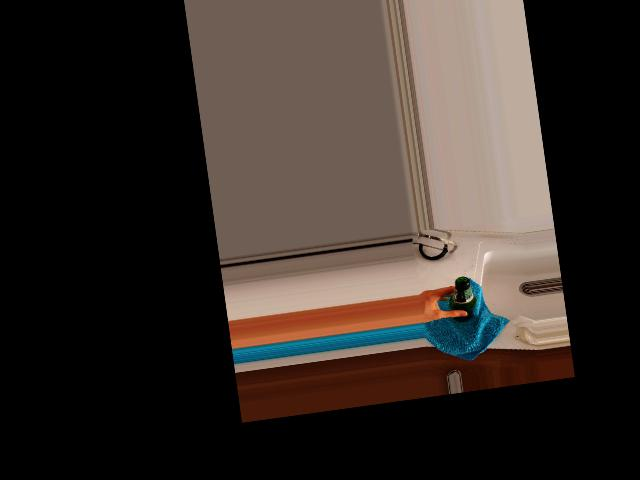beer: (447, 276, 478, 323)
